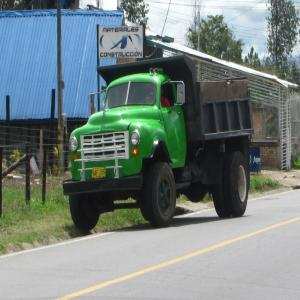Vehicle-registration-plate: (93, 169, 107, 180)
